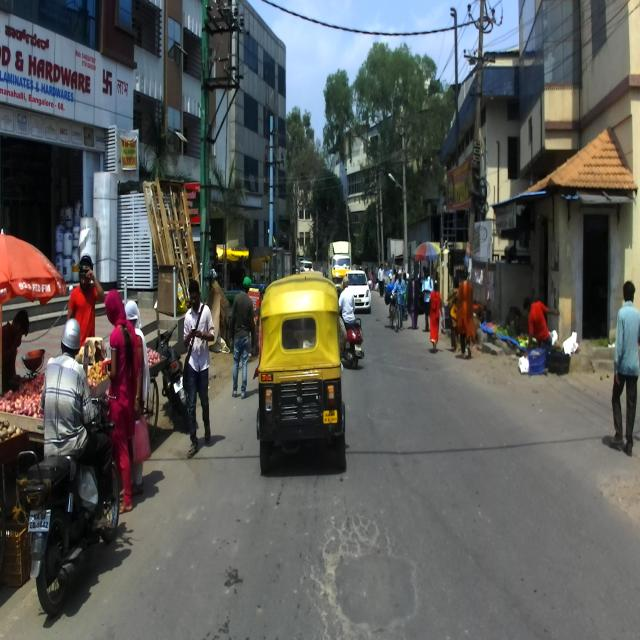auto ahead at: (256, 279, 342, 486)
motorcycle ahead at: (20, 432, 120, 614)
person ahead at: (180, 272, 212, 462)
